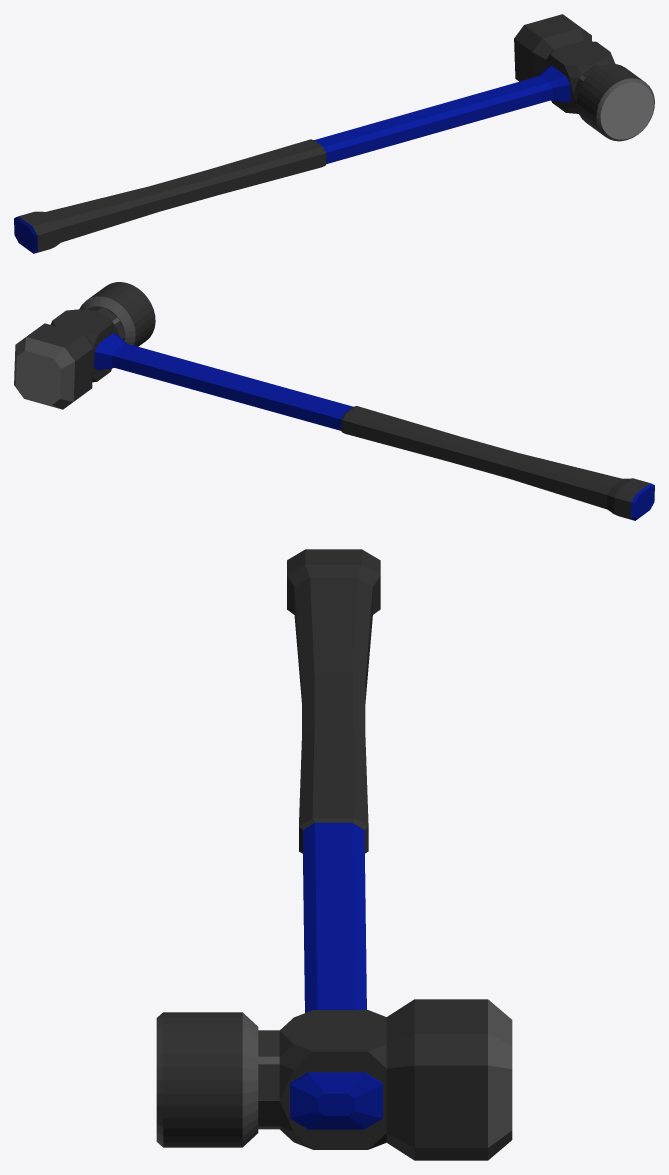
The model's file is WorldItem_PoliceBreachingHammer.fbx.
The picture shows the model from 3 angles, top to bottom: view 1: azimuth 30°, elevation 25°; view 2: azimuth 150°, elevation 25°; view 3: azimuth 270°, elevation 25°; orthographic projection. The views are drawn at different scales.
Visible parts, largest first — view 1: PoliceBreachingHammer; view 2: PoliceBreachingHammer; view 3: PoliceBreachingHammer.
Boxes of the visible parts, left/top/right/bottom form: PoliceBreachingHammer: left=14, top=14, right=654, bottom=253; PoliceBreachingHammer: left=14, top=282, right=654, bottom=520; PoliceBreachingHammer: left=156, top=549, right=512, bottom=1160.
Size of the model in its own units: 0.7172 by 0.0768 by 0.1872.
